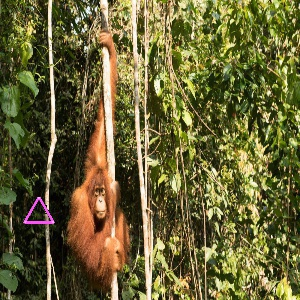triangle: (21, 193, 57, 228)
